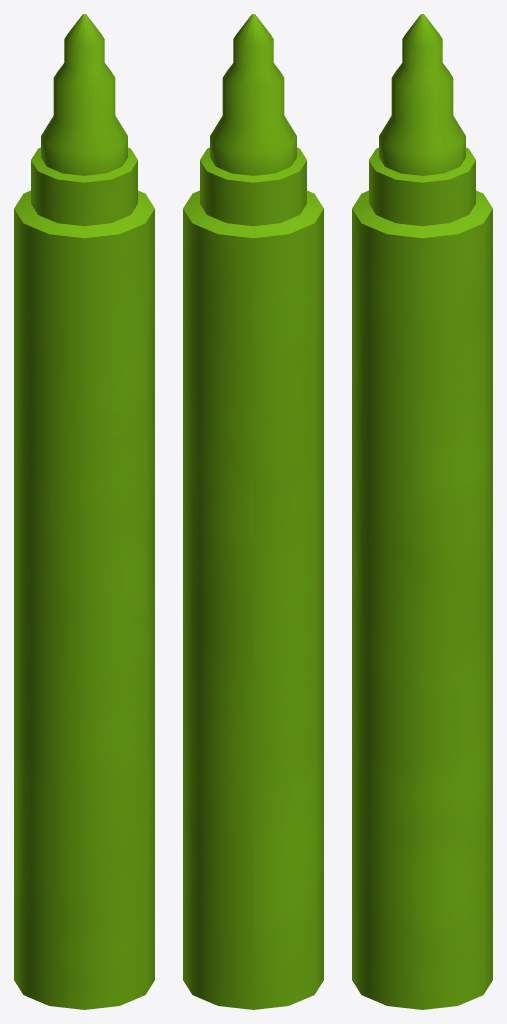
Rendered from green_marker.glb.
3 renders of one model, left to right at view 1: azimuth 30°, elevation 25°; view 2: azimuth 150°, elevation 25°; view 3: azimuth 270°, elevation 25°, orthographic.
Visible parts, largest first — view 1: green_marker; view 2: green_marker; view 3: green_marker.
Boxes of the visible parts, x1,y1,x2,y2 form: green_marker: (14,14,154,1009); green_marker: (183,14,323,1009); green_marker: (352,14,492,1009).
Size of the model in its own units: 0.0132 by 0.1 by 0.0132.
2 materials, 2 textured.
